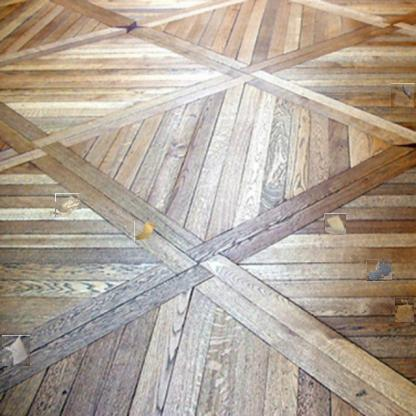dirty: (2, 335, 30, 366), (55, 193, 81, 217), (392, 83, 416, 108), (324, 213, 346, 234), (134, 220, 155, 242)
liquid: (366, 259, 392, 281), (396, 298, 416, 322)
